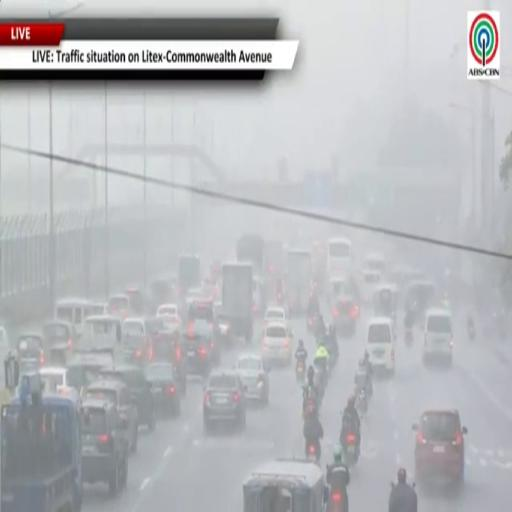car: (81, 399, 128, 495), (413, 409, 467, 486), (85, 379, 138, 452), (100, 364, 155, 430), (203, 371, 246, 433), (153, 328, 187, 396), (122, 317, 165, 365), (67, 351, 113, 394), (145, 362, 180, 417), (366, 317, 396, 375), (183, 322, 214, 377), (423, 309, 453, 365), (236, 354, 269, 404), (42, 320, 77, 364), (39, 366, 80, 401), (262, 322, 293, 365), (17, 333, 46, 372), (333, 295, 359, 337), (360, 269, 381, 305), (183, 287, 208, 317), (188, 299, 214, 324), (107, 294, 133, 319), (216, 311, 233, 347), (125, 286, 146, 315), (157, 303, 181, 327), (328, 276, 347, 303), (364, 253, 386, 274), (264, 307, 287, 323), (0, 325, 10, 360)
motorcycle: (343, 432, 358, 467), (303, 389, 319, 418), (314, 368, 327, 403), (326, 490, 346, 511), (356, 389, 368, 415), (306, 442, 320, 462), (296, 360, 305, 383), (307, 315, 318, 332), (405, 329, 413, 347), (468, 325, 475, 341)
truck: (0, 374, 82, 511), (222, 263, 253, 342), (286, 250, 311, 313), (236, 234, 264, 275), (177, 254, 201, 298)
